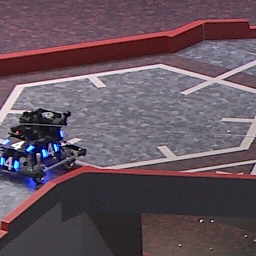Blue: (2, 137, 33, 155), (1, 155, 20, 172), (40, 142, 59, 159)
Robot: (1, 105, 87, 180)
